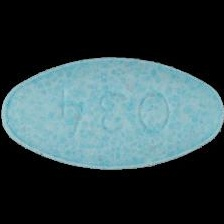52959-225: (0, 0, 224, 224)
